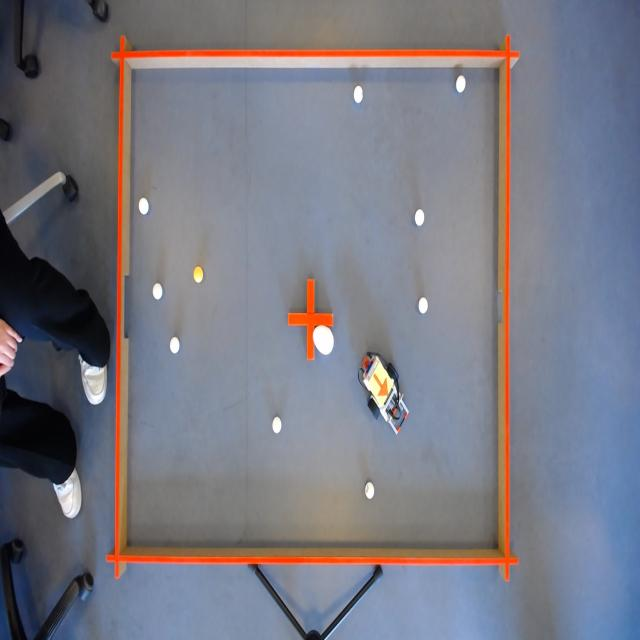cross: (285, 273, 334, 358)
egg: (312, 323, 335, 358)
orange_ball: (192, 262, 204, 286)
robot: (367, 362, 395, 413)
white_ball: (168, 333, 181, 360), (454, 72, 468, 97), (270, 414, 284, 438), (416, 293, 429, 317), (364, 478, 376, 502), (137, 196, 150, 218), (413, 207, 426, 228), (151, 282, 163, 302), (352, 85, 363, 105)
